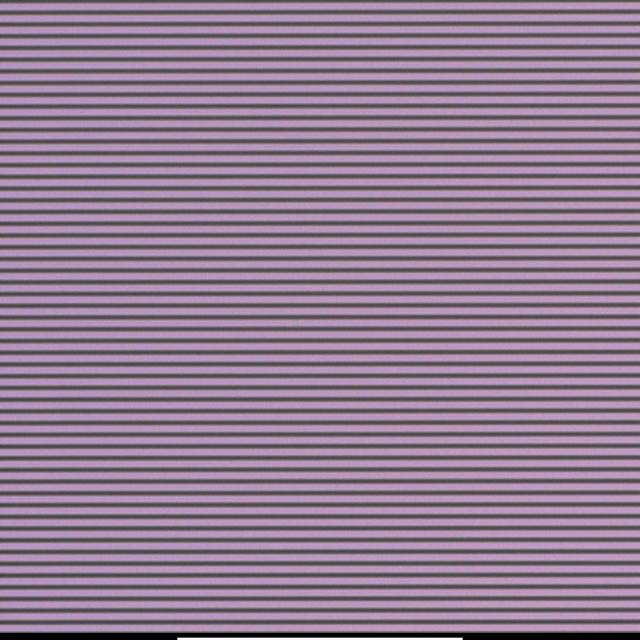nonvisual: (293, 317, 302, 330)
